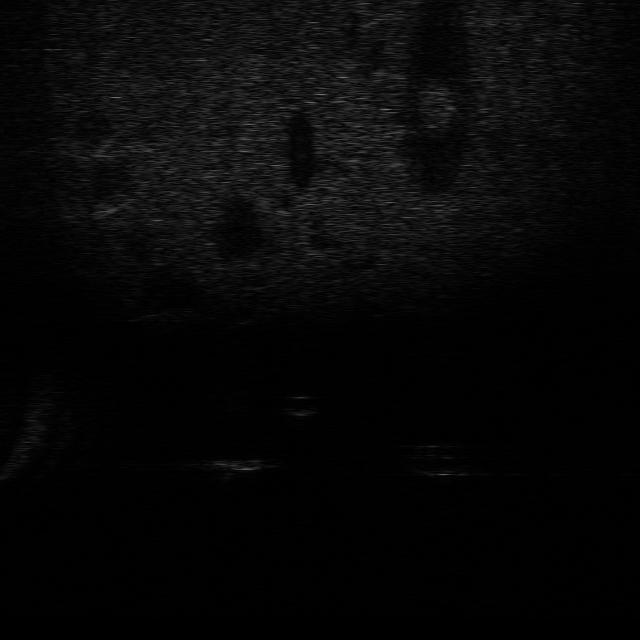ball: (279, 388, 321, 418)
square cage: (189, 449, 275, 484)
tyre: (401, 438, 474, 479)
